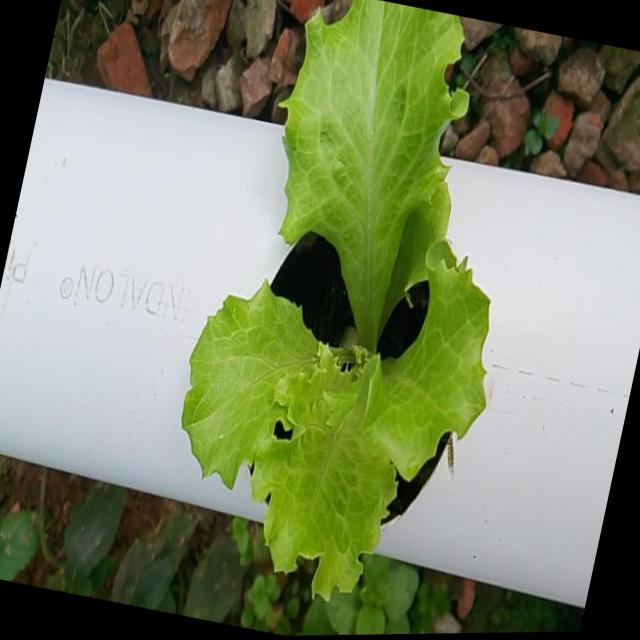Baby: (183, 0, 487, 605)
